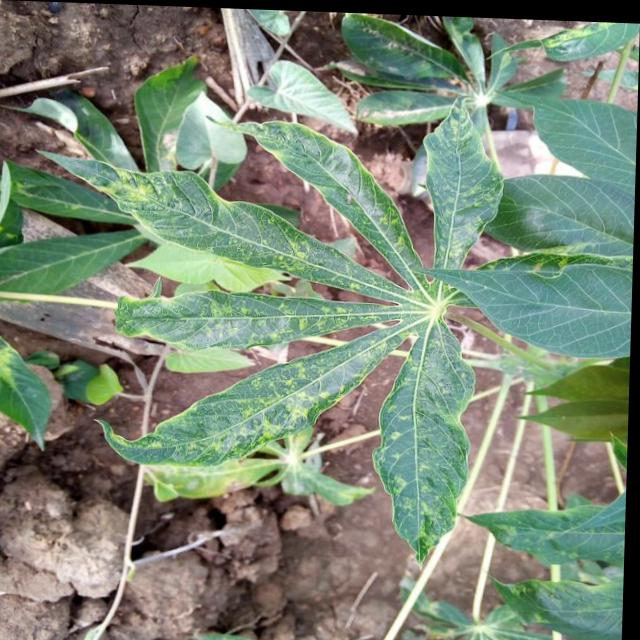Mosaico: (107, 105, 602, 505)
